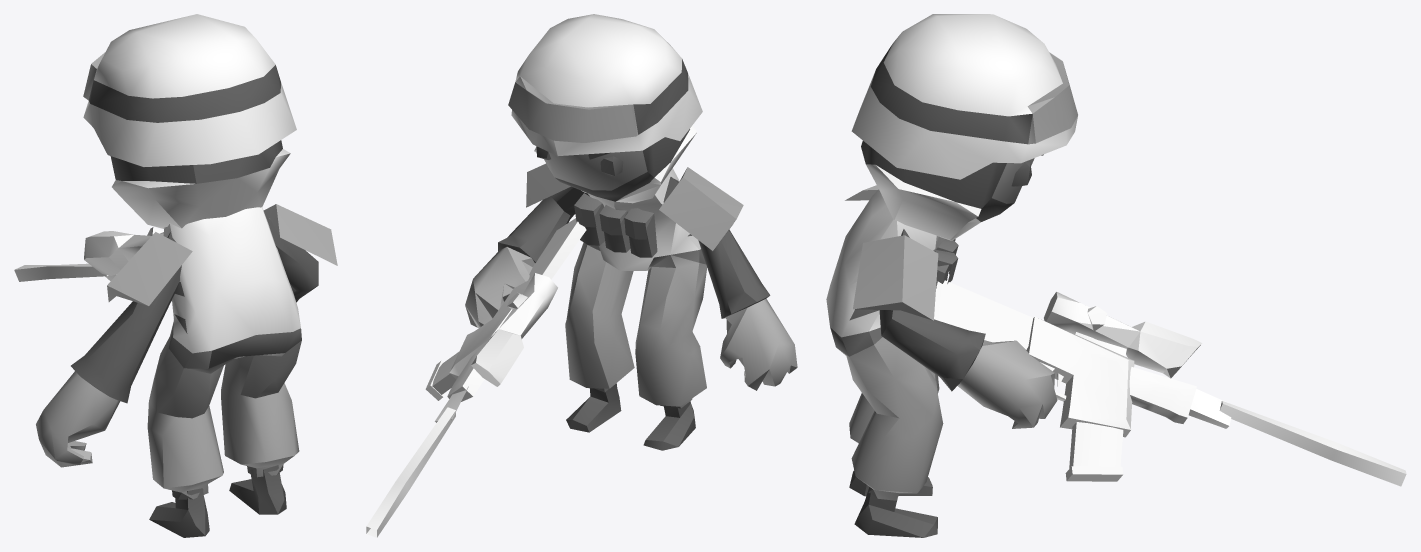
Rendered from relay_van.glb.
The picture shows the model from 3 angles, left to right: view 1: azimuth 30°, elevation 25°; view 2: azimuth 150°, elevation 25°; view 3: azimuth 270°, elevation 25°; orthographic projection. The views are drawn at different scales.
Visible parts, largest first — view 1: Body; view 2: Body; view 3: Body.
Boxes of the visible parts, box(x1,y1,x2,y2) form: Body: box(14, 14, 337, 537); Body: box(366, 14, 797, 537); Body: box(826, 14, 1406, 537).
Size of the model in its own units: 1.25 by 1.8 by 1.95.
2 materials, 1 textured.
